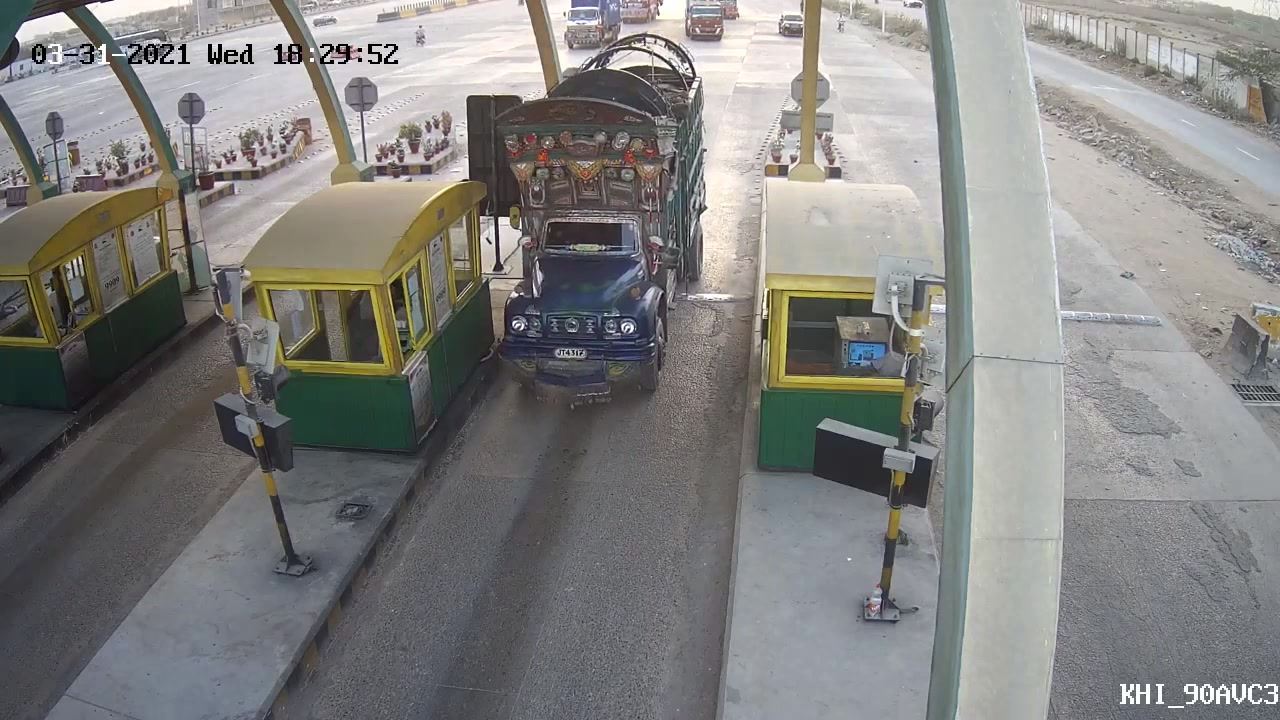F5: (478, 33, 723, 408)
